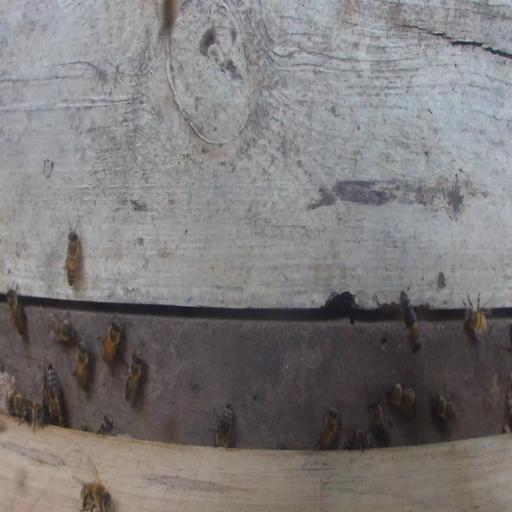nonpollenbee: (400, 288, 422, 355), (463, 292, 488, 348), (124, 349, 147, 405), (42, 363, 63, 423), (63, 218, 80, 289), (99, 317, 122, 369), (388, 380, 417, 418), (6, 281, 25, 337), (80, 479, 113, 511), (366, 397, 394, 433), (430, 388, 456, 425), (316, 406, 338, 449), (213, 402, 233, 448), (9, 392, 33, 426), (50, 310, 74, 343), (75, 338, 89, 390), (343, 428, 373, 451), (32, 400, 44, 433), (96, 414, 114, 436)
